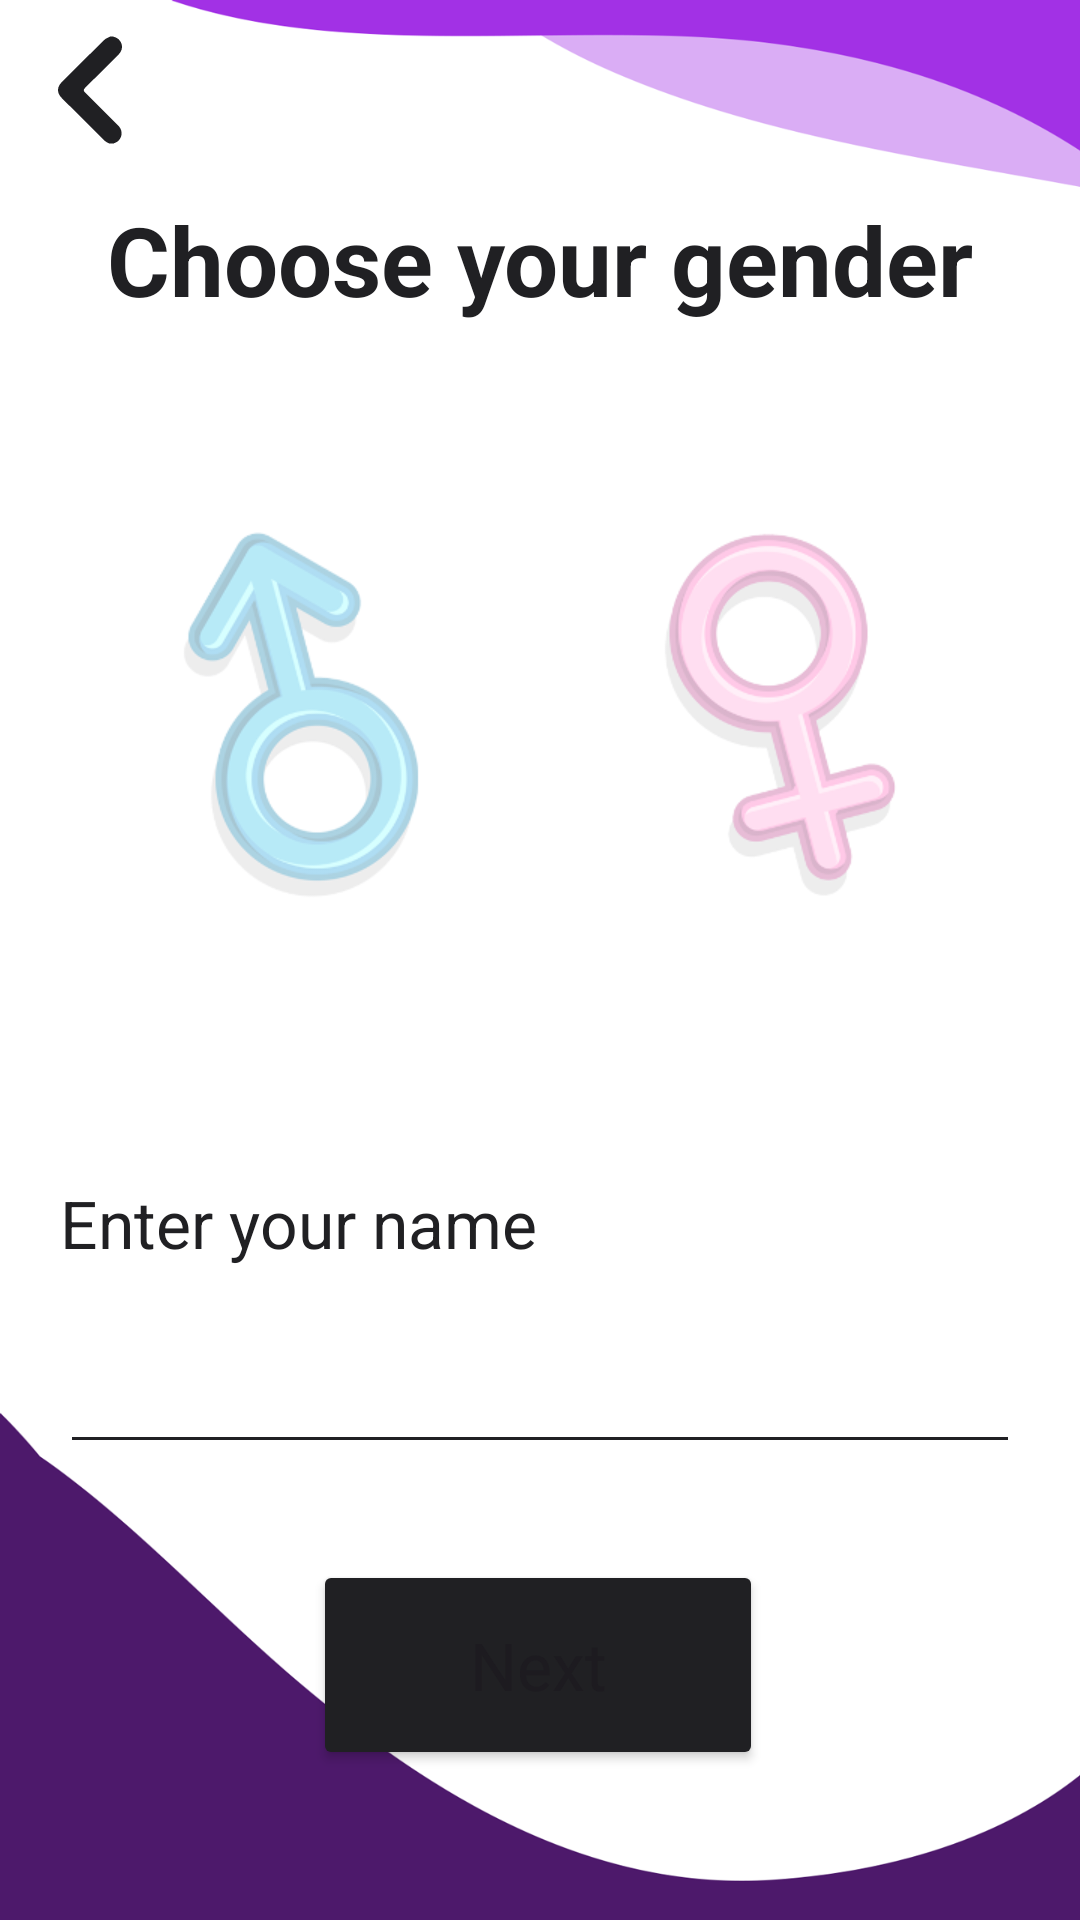

Named icons in this screenshot (1080x1920) and their centers, [x,y]:
previous: [90,90]
